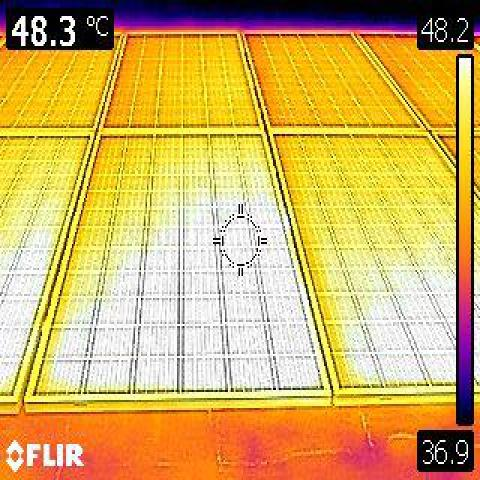fault: (63, 313, 307, 384), (377, 279, 446, 376), (0, 228, 40, 394)
